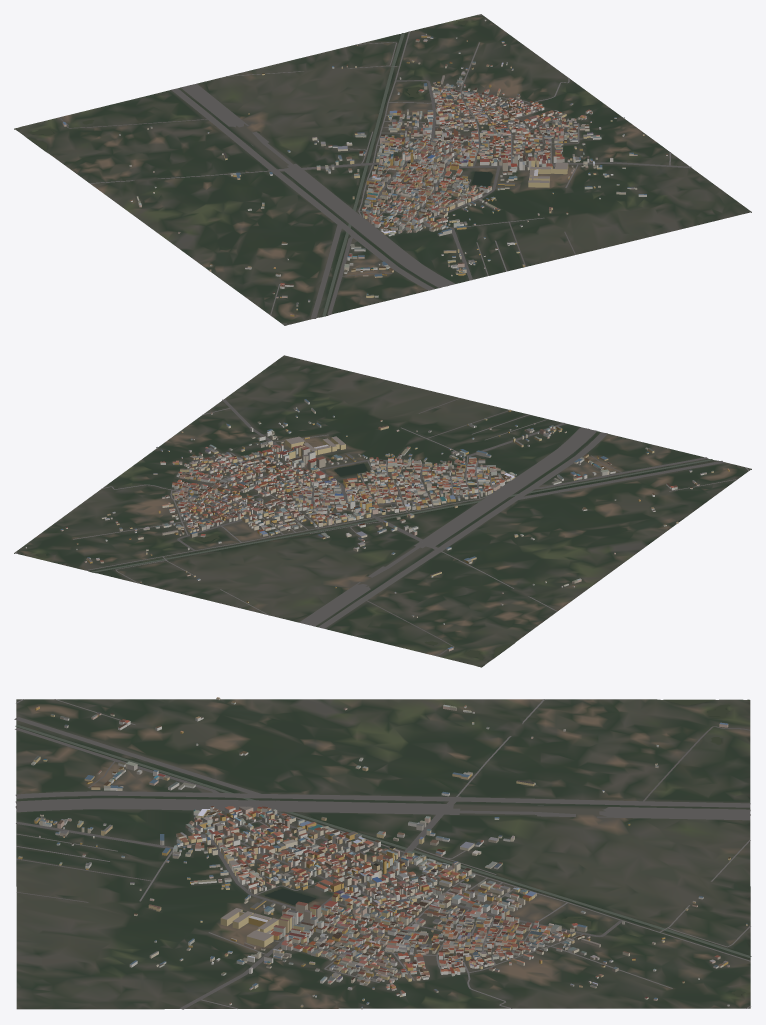
3 renders of one model, top to bottom at view 1: azimuth 30°, elevation 25°; view 2: azimuth 150°, elevation 25°; view 3: azimuth 270°, elevation 25°, orthographic. The views are drawn at different scales.
Visible parts, largest first — view 1: ground, buildings, roads, water; view 2: ground, buildings, roads, water; view 3: ground, buildings, roads, water.
Part boxes in pixels (x1,y1,x2,y2): ground: (14, 14, 751, 325); buildings: (62, 19, 667, 316); roads: (60, 14, 691, 324); water: (15, 21, 492, 316); ground: (14, 355, 751, 667); buildings: (25, 399, 729, 651); roads: (15, 398, 749, 655); water: (35, 459, 712, 666); ground: (16, 699, 750, 1009); buildings: (18, 697, 747, 1009); roads: (14, 699, 750, 1009); water: (15, 699, 751, 996).
Size of the model in its own units: 1404 by 31.31 by 1409.
